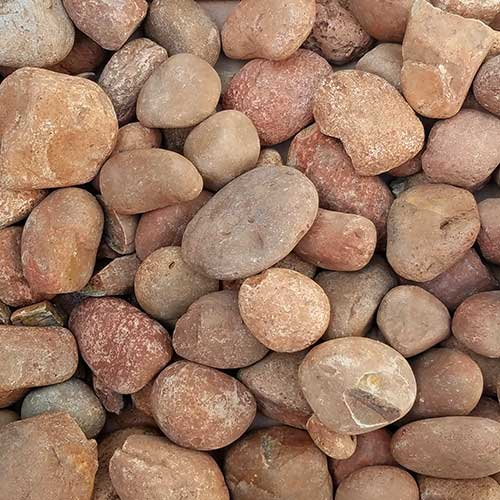rock: (0, 2, 494, 494)
